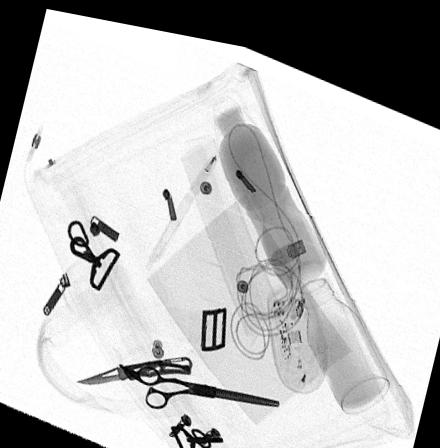Knife: (74, 350, 191, 380)
Scissors: (117, 357, 279, 404)
